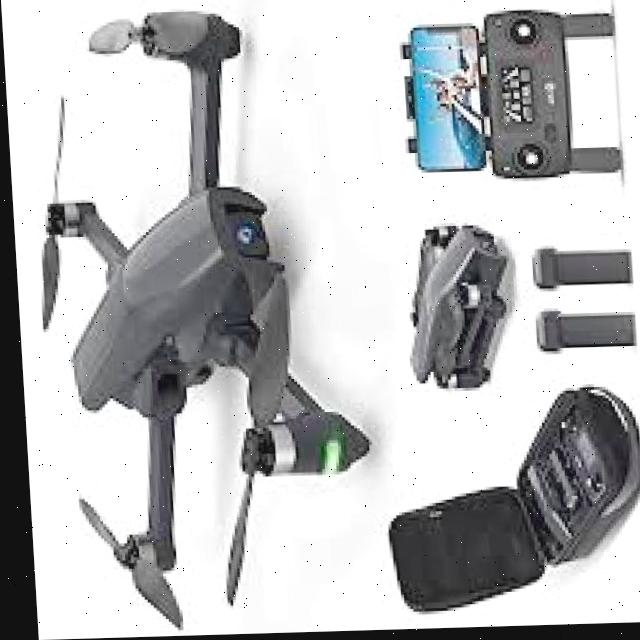drone: (1, 0, 377, 640)
